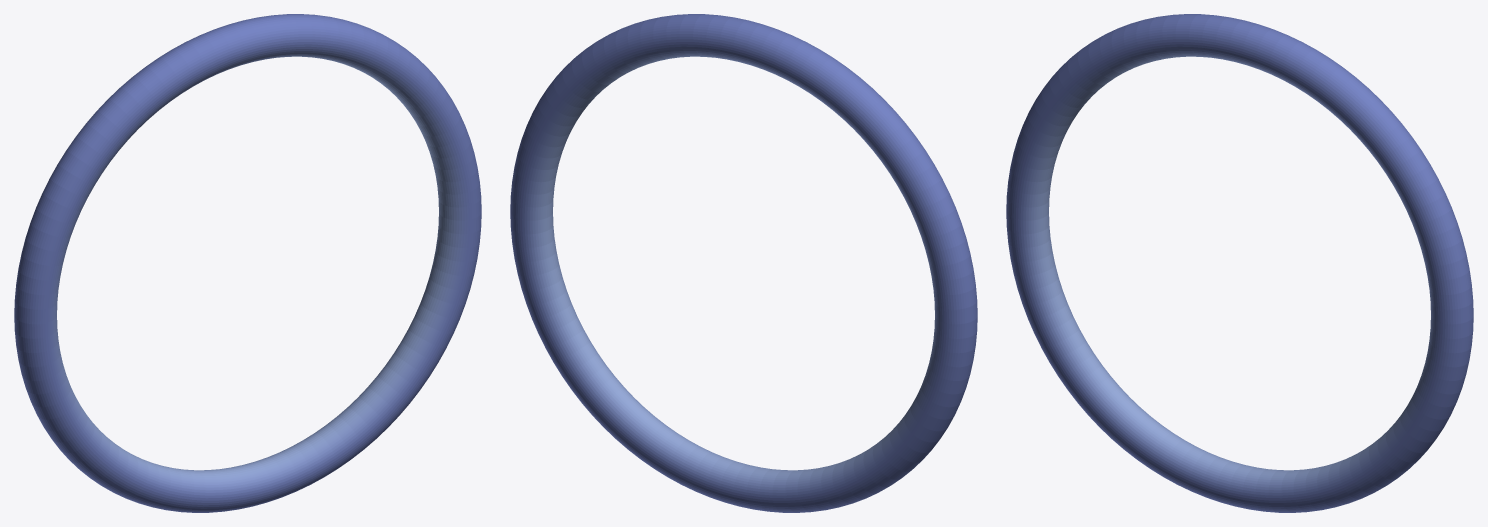
3 views of the same model, side by side, from view 1: azimuth 30°, elevation 25°; view 2: azimuth 150°, elevation 25°; view 3: azimuth 330°, elevation 25° (orthographic).
Parts seen in each view (by area): view 1: world; view 2: world; view 3: world.
Boxes of the visible parts, bbox=[...] form: world: bbox=[14, 14, 481, 512]; world: bbox=[510, 14, 977, 512]; world: bbox=[1006, 14, 1473, 512].
Bounding box in the file's own units: 28.27 × 28.27 × 2.26.
